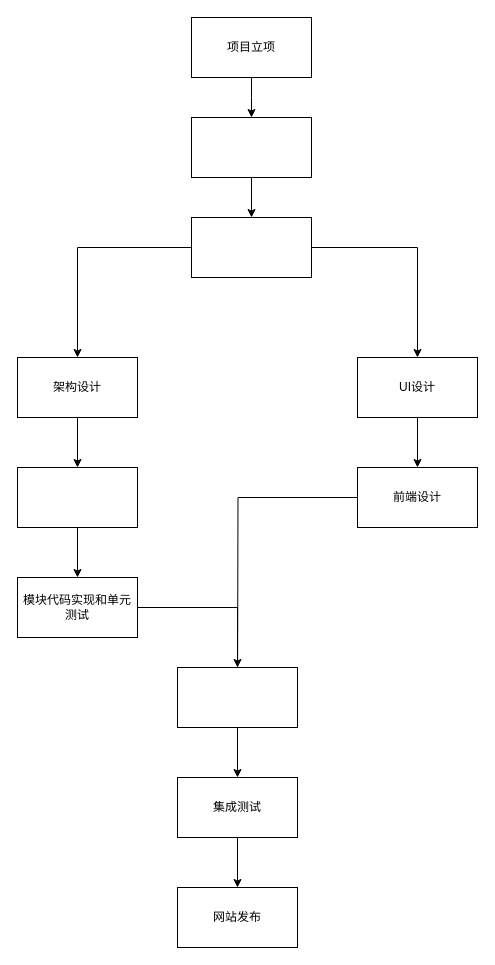
Image size: 495x965. Some labels were removed from this diagram. The shapes that lost their labels are listed below. From the top down, each one's centre as x and y in pixels, then its label:
pixel 251 147: 需求分析
pixel 251 247: 原型设计
pixel 77 497: 数据库设计
pixel 237 697: 代码整合
